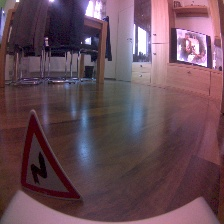vorsicht: (15, 109, 86, 204)
